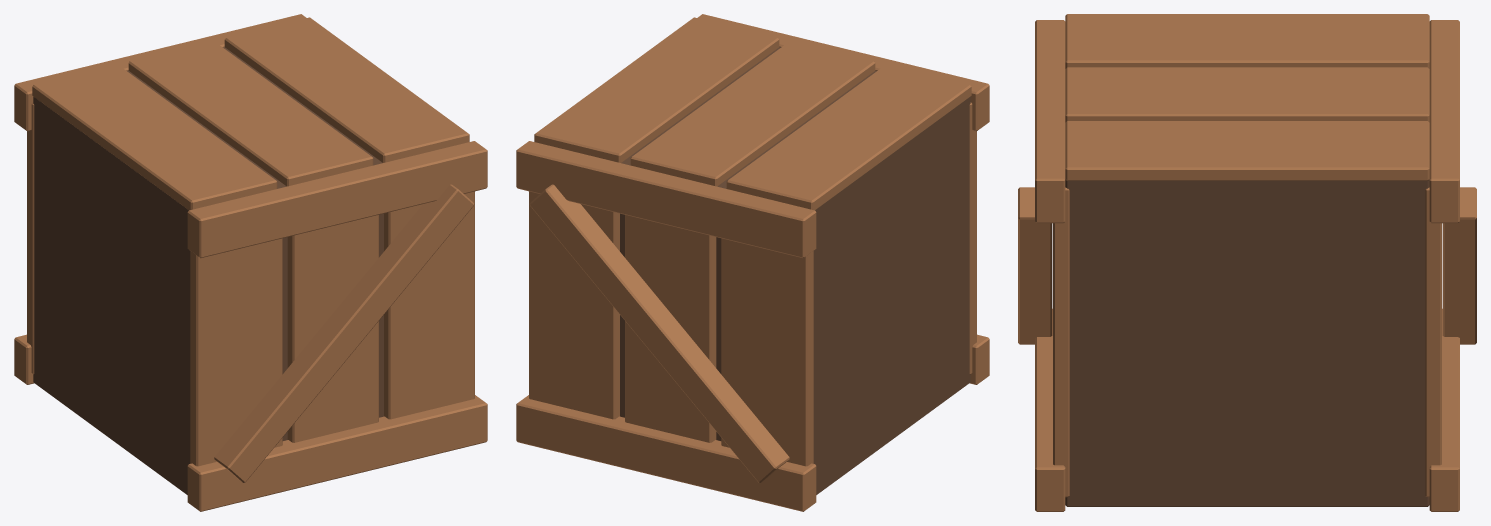
The model's file is wood_crate_large_01.glb.
3 renders of one model, left to right at view 1: azimuth 30°, elevation 25°; view 2: azimuth 150°, elevation 25°; view 3: azimuth 270°, elevation 25°, orthographic. The views are drawn at different scales.
Parts seen in each view (by area): view 1: wood_crate_large_01; view 2: wood_crate_large_01; view 3: wood_crate_large_01.
Boxes of the visible parts, bbox=[...] form: wood_crate_large_01: bbox=[14, 14, 487, 511]; wood_crate_large_01: bbox=[516, 14, 989, 511]; wood_crate_large_01: bbox=[1018, 14, 1476, 511].
Size of the model in its own units: 0.8 by 0.796 by 0.968.
